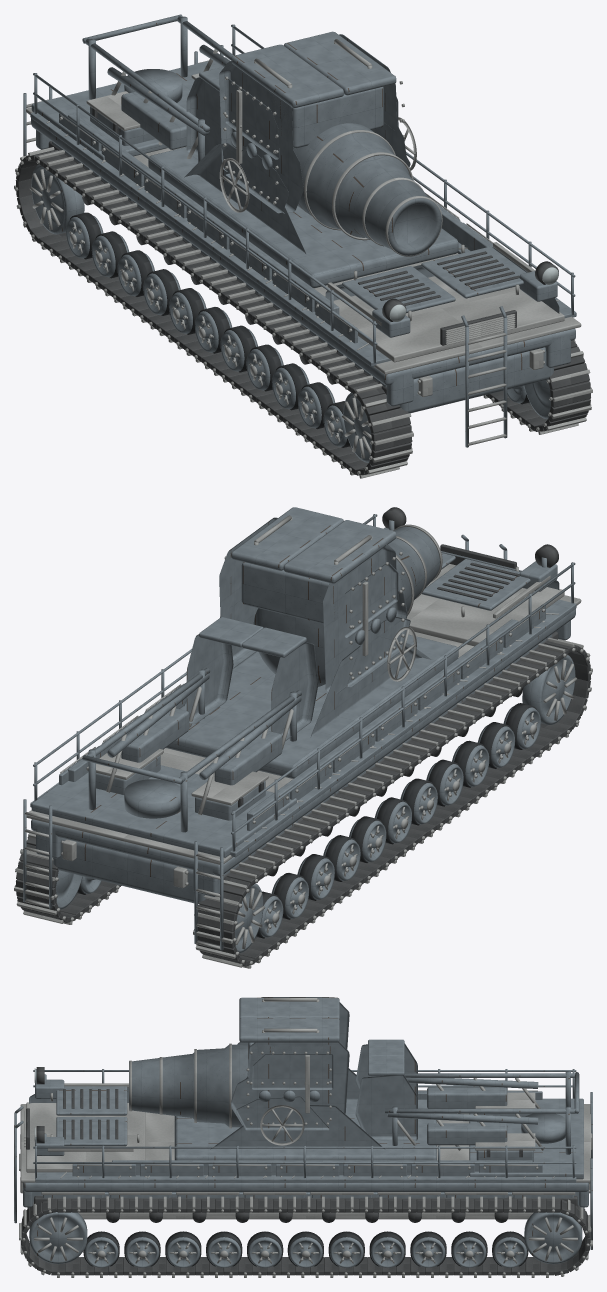
Rendered from pgf-reference.glb.
3 renders of one model, top to bottom at view 1: azimuth 30°, elevation 25°; view 2: azimuth 150°, elevation 25°; view 3: azimuth 270°, elevation 25°, orthographic. The views are drawn at different scales.
Parts seen in each view (by area): view 1: cradle-graphite-painted-steel-batch, running-gear-panel-shadow-batch, chassis-graphite-painted-steel-batch, platform-graphite-painted-steel-batch, running-gear-cast-edge-steel-batch, carriage-graphite-painted-steel-batch, barrel-tube-exterior-batch, running-gear-graphite-painted-steel-batch, engine-cast-edge-steel-batch, mechanisms-graphite-painted-steel-batch, engine-graphite-painted-steel-batch, running-gear-dark-running-bands-batch (+6 smaller); view 2: platform-graphite-painted-steel-batch, cradle-graphite-painted-steel-batch, running-gear-panel-shadow-batch, chassis-graphite-painted-steel-batch, mechanisms-graphite-painted-steel-batch, carriage-graphite-painted-steel-batch, running-gear-cast-edge-steel-batch, running-gear-graphite-painted-steel-batch, running-gear-dark-running-bands-batch, chassis-cast-edge-steel-batch, engine-cast-edge-steel-batch, barrel-tube-exterior-batch (+6 smaller); view 3: running-gear-panel-shadow-batch, chassis-graphite-painted-steel-batch, mechanisms-graphite-painted-steel-batch, platform-graphite-painted-steel-batch, cradle-graphite-painted-steel-batch, running-gear-graphite-painted-steel-batch, carriage-graphite-painted-steel-batch, chassis-cast-edge-steel-batch, barrel-tube-exterior-batch, running-gear-cast-edge-steel-batch, engine-graphite-painted-steel-batch, engine-cast-edge-steel-batch (+7 smaller).
Boxes of the visible parts, x1=… form: cradle-graphite-painted-steel-batch: x1=219, y1=31, x2=410, y2=213; running-gear-panel-shadow-batch: x1=15, y1=150, x2=590, y2=475; chassis-graphite-painted-steel-batch: x1=31, y1=112, x2=575, y2=413; platform-graphite-painted-steel-batch: x1=23, y1=24, x2=576, y2=366; running-gear-cast-edge-steel-batch: x1=14, y1=147, x2=592, y2=478; carriage-graphite-painted-steel-batch: x1=148, y1=143, x2=458, y2=288; barrel-tube-exterior-batch: x1=293, y1=123, x2=441, y2=255; running-gear-graphite-painted-steel-batch: x1=31, y1=164, x2=550, y2=462; engine-cast-edge-steel-batch: x1=327, y1=242, x2=564, y2=445; mechanisms-graphite-painted-steel-batch: x1=82, y1=14, x2=233, y2=162; engine-graphite-painted-steel-batch: x1=325, y1=246, x2=559, y2=447; running-gear-dark-running-bands-batch: x1=70, y1=212, x2=529, y2=447; platform-graphite-painted-steel-batch: x1=23, y1=514, x2=576, y2=950; cradle-graphite-painted-steel-batch: x1=219, y1=507, x2=410, y2=693; running-gear-panel-shadow-batch: x1=16, y1=641, x2=590, y2=966; chassis-graphite-painted-steel-batch: x1=31, y1=604, x2=575, y2=904; mechanisms-graphite-painted-steel-batch: x1=82, y1=617, x2=318, y2=832; carriage-graphite-painted-steel-batch: x1=166, y1=634, x2=458, y2=778; running-gear-cast-edge-steel-batch: x1=14, y1=637, x2=592, y2=968; running-gear-graphite-painted-steel-batch: x1=56, y1=655, x2=575, y2=953; running-gear-dark-running-bands-batch: x1=77, y1=703, x2=537, y2=938; chassis-cast-edge-steel-batch: x1=26, y1=595, x2=581, y2=888; engine-cast-edge-steel-batch: x1=406, y1=564, x2=564, y2=646; barrel-tube-exterior-batch: x1=253, y1=526, x2=439, y2=686; running-gear-panel-shadow-batch: x1=21, y1=1198, x2=590, y2=1275; chassis-graphite-painted-steel-batch: x1=23, y1=1091, x2=588, y2=1208; mechanisms-graphite-painted-steel-batch: x1=355, y1=1039, x2=579, y2=1154; platform-graphite-painted-steel-batch: x1=33, y1=1069, x2=592, y2=1249; cradle-graphite-painted-steel-batch: x1=231, y1=997, x2=349, y2=1130; running-gear-graphite-painted-steel-batch: x1=29, y1=1212, x2=582, y2=1267; carriage-graphite-painted-steel-batch: x1=174, y1=1068, x2=436, y2=1160; chassis-cast-edge-steel-batch: x1=20, y1=1090, x2=592, y2=1219; barrel-tube-exterior-batch: x1=129, y1=1044, x2=248, y2=1127; running-gear-cast-edge-steel-batch: x1=19, y1=1153, x2=592, y2=1277; engine-graphite-painted-steel-batch: x1=14, y1=1074, x2=128, y2=1223; engine-cast-edge-steel-batch: x1=14, y1=1083, x2=145, y2=1220.
Bounding box in the file's own units: 3.69 × 4.49 × 10.6.
Materials: 6 (6 with a texture image).
